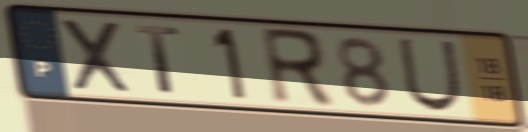1: (210, 26, 250, 102)
8: (334, 33, 393, 110)
R: (257, 25, 338, 111)
T: (132, 22, 184, 97)
U: (395, 35, 465, 114)
X: (56, 15, 137, 97)
